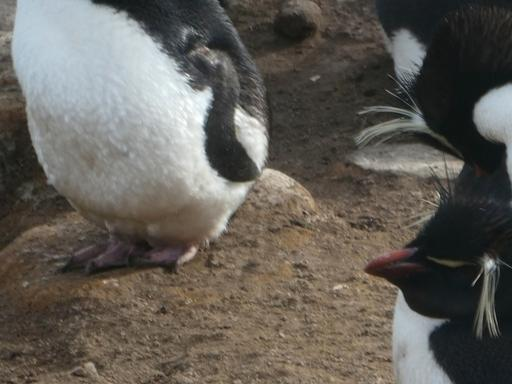Southern Rockhopper Penguin: (347, 8, 512, 361), (335, 184, 512, 384)
